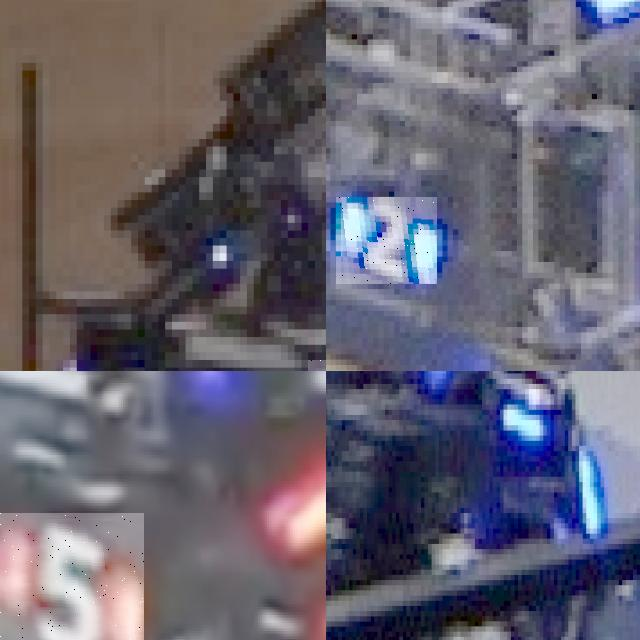B2: (336, 197, 437, 284)
R5: (0, 513, 143, 640)
